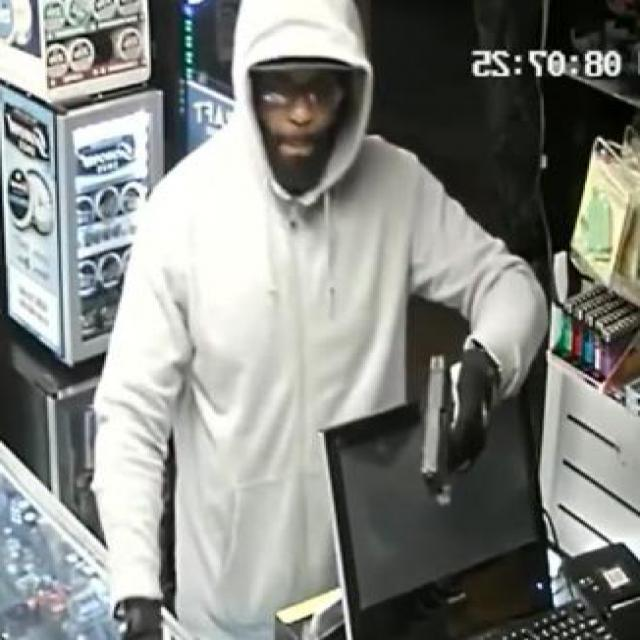Gun: (414, 344, 499, 506)
